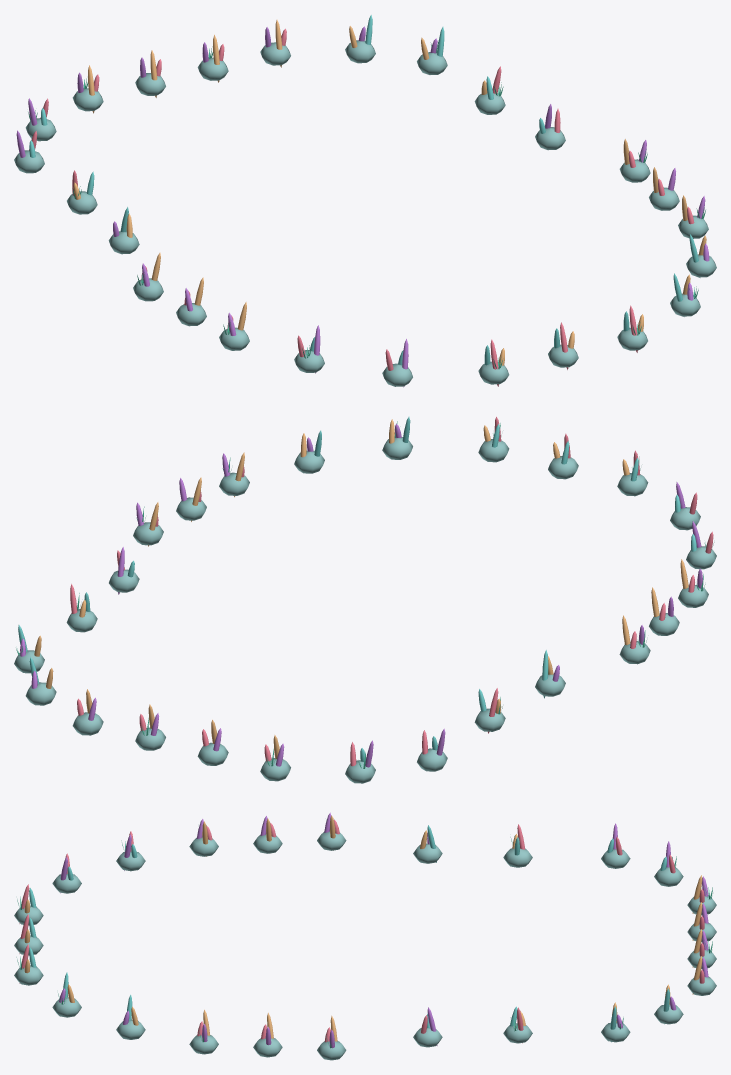
Rendered from reef-05-DaOn2LMI.glb.
3 views of the same model, one above another, from view 1: azimuth 30°, elevation 25°; view 2: azimuth 150°, elevation 25°; view 3: azimuth 270°, elevation 25° (orthographic). The views are drawn at different scales.
Parts seen in each view (by area): view 1: ReefRock, Coral2, Coral1, Coral0, Coral3; view 2: ReefRock, Coral2, Coral1, Coral0, Coral3; view 3: ReefRock, Coral2, Coral1, Coral0, Coral3.
Boxes of the visible parts, x1=… form: ReefRock: x1=14, y1=40, x2=716, y2=386; Coral2: x1=73, y1=19, x2=706, y2=365; Coral1: x1=16, y1=26, x2=709, y2=387; Coral0: x1=29, y1=28, x2=694, y2=386; Coral3: x1=29, y1=15, x2=700, y2=365; ReefRock: x1=14, y1=437, x2=716, y2=783; Coral2: x1=34, y1=419, x2=688, y2=759; Coral1: x1=20, y1=424, x2=702, y2=767; Coral0: x1=70, y1=416, x2=713, y2=766; Coral3: x1=18, y1=416, x2=696, y2=761; ReefRock: x1=14, y1=831, x2=716, y2=1060; Coral2: x1=24, y1=815, x2=702, y2=1041; Coral1: x1=59, y1=812, x2=708, y2=1048; Coral0: x1=19, y1=819, x2=704, y2=1043; Coral3: x1=29, y1=825, x2=669, y2=1042.
Bounding box in the file's own units: 24.66 × 2.06 × 33.1.
